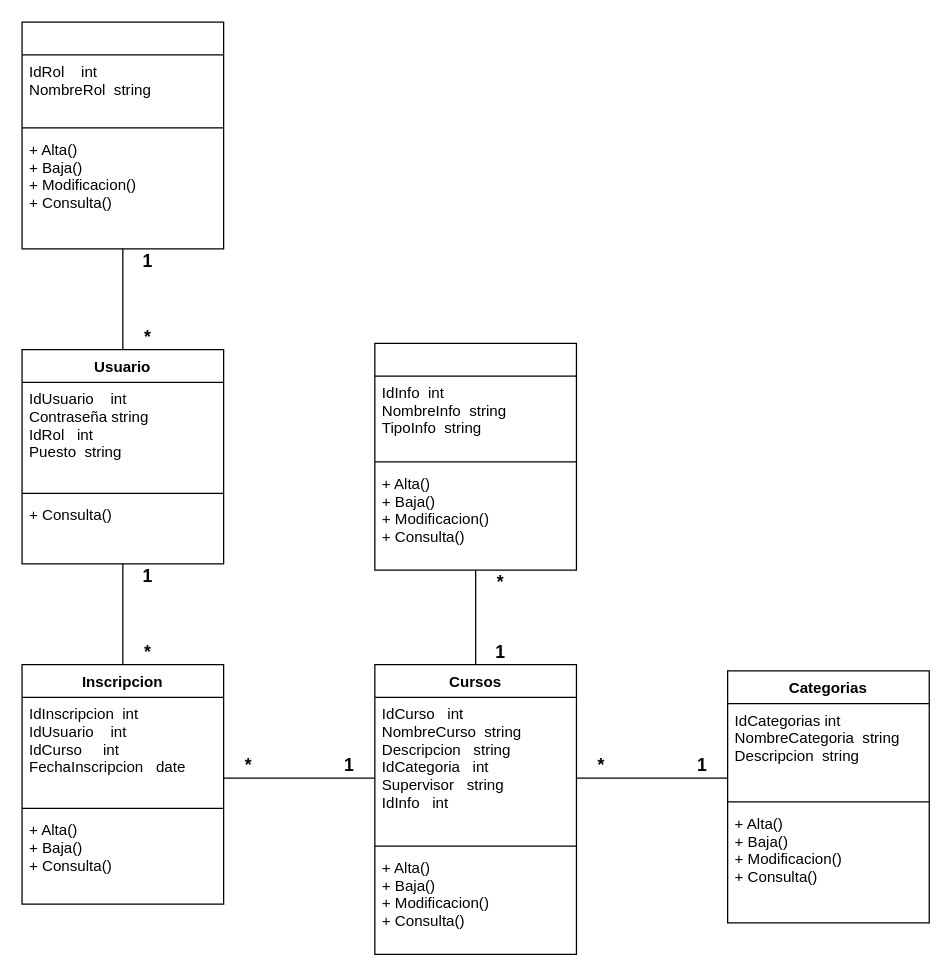
Some shapes in this 951 by 980 pixel diagram are drawn without their labels. The shapes that lost their labels are listed below. From the top down, each one's box as (x1, y1, x2, y2) in pixels, then its label:
(21, 21, 224, 249): Roles
(374, 342, 576, 570): InformacionCurso
